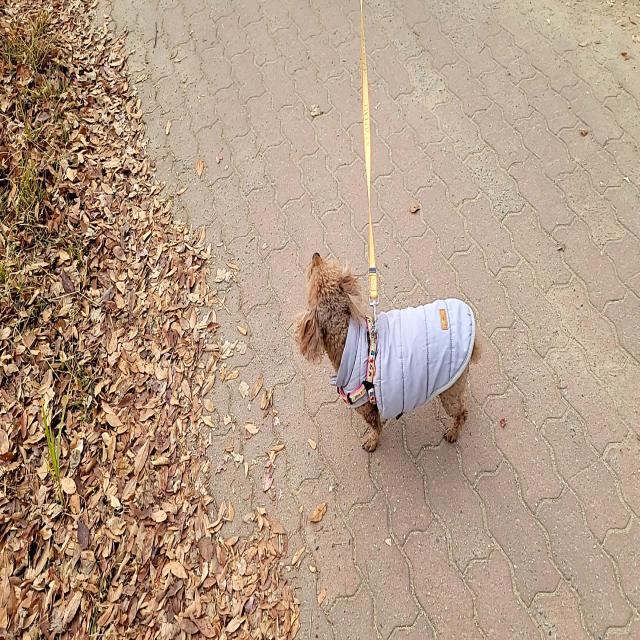Dog: (294, 252, 482, 454)
